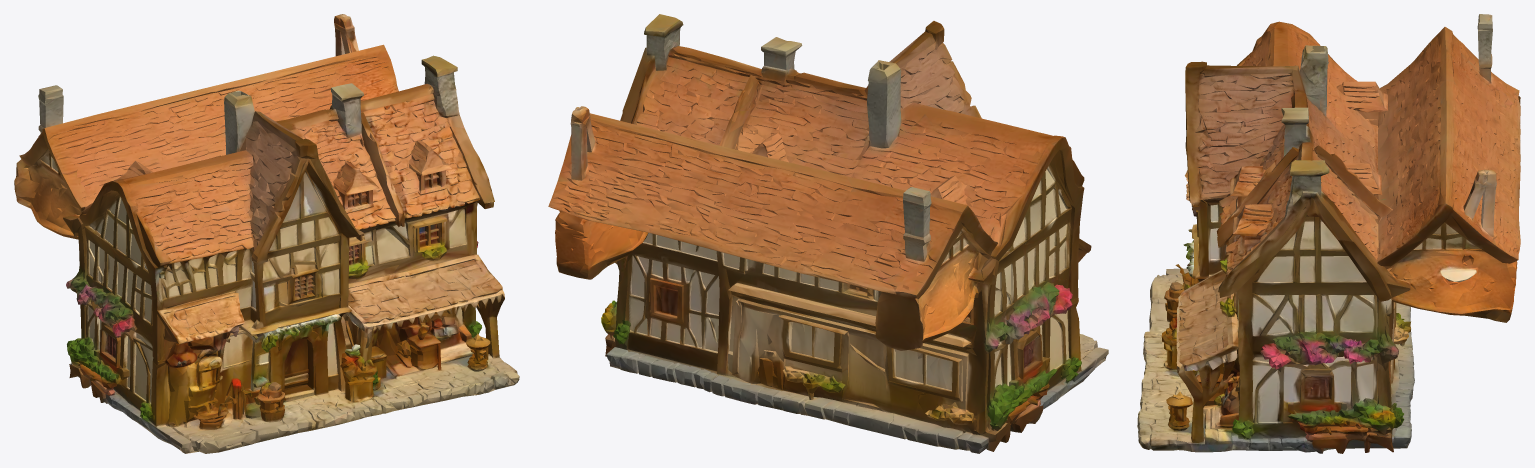
3 renders of one model, left to right at view 1: azimuth 30°, elevation 25°; view 2: azimuth 150°, elevation 25°; view 3: azimuth 270°, elevation 25°, orthographic. The views are drawn at different scales.
Parts seen in each view (by area): view 1: model; view 2: model; view 3: model.
Boxes of the visible parts, <box> form: model: <box>14,14,519,453</box>; model: <box>548,14,1108,453</box>; model: <box>1137,14,1520,453</box>.
Bounding box in the file's own units: 1.91 × 1.4 × 1.63.
Materials: 1 (1 with a texture image).
